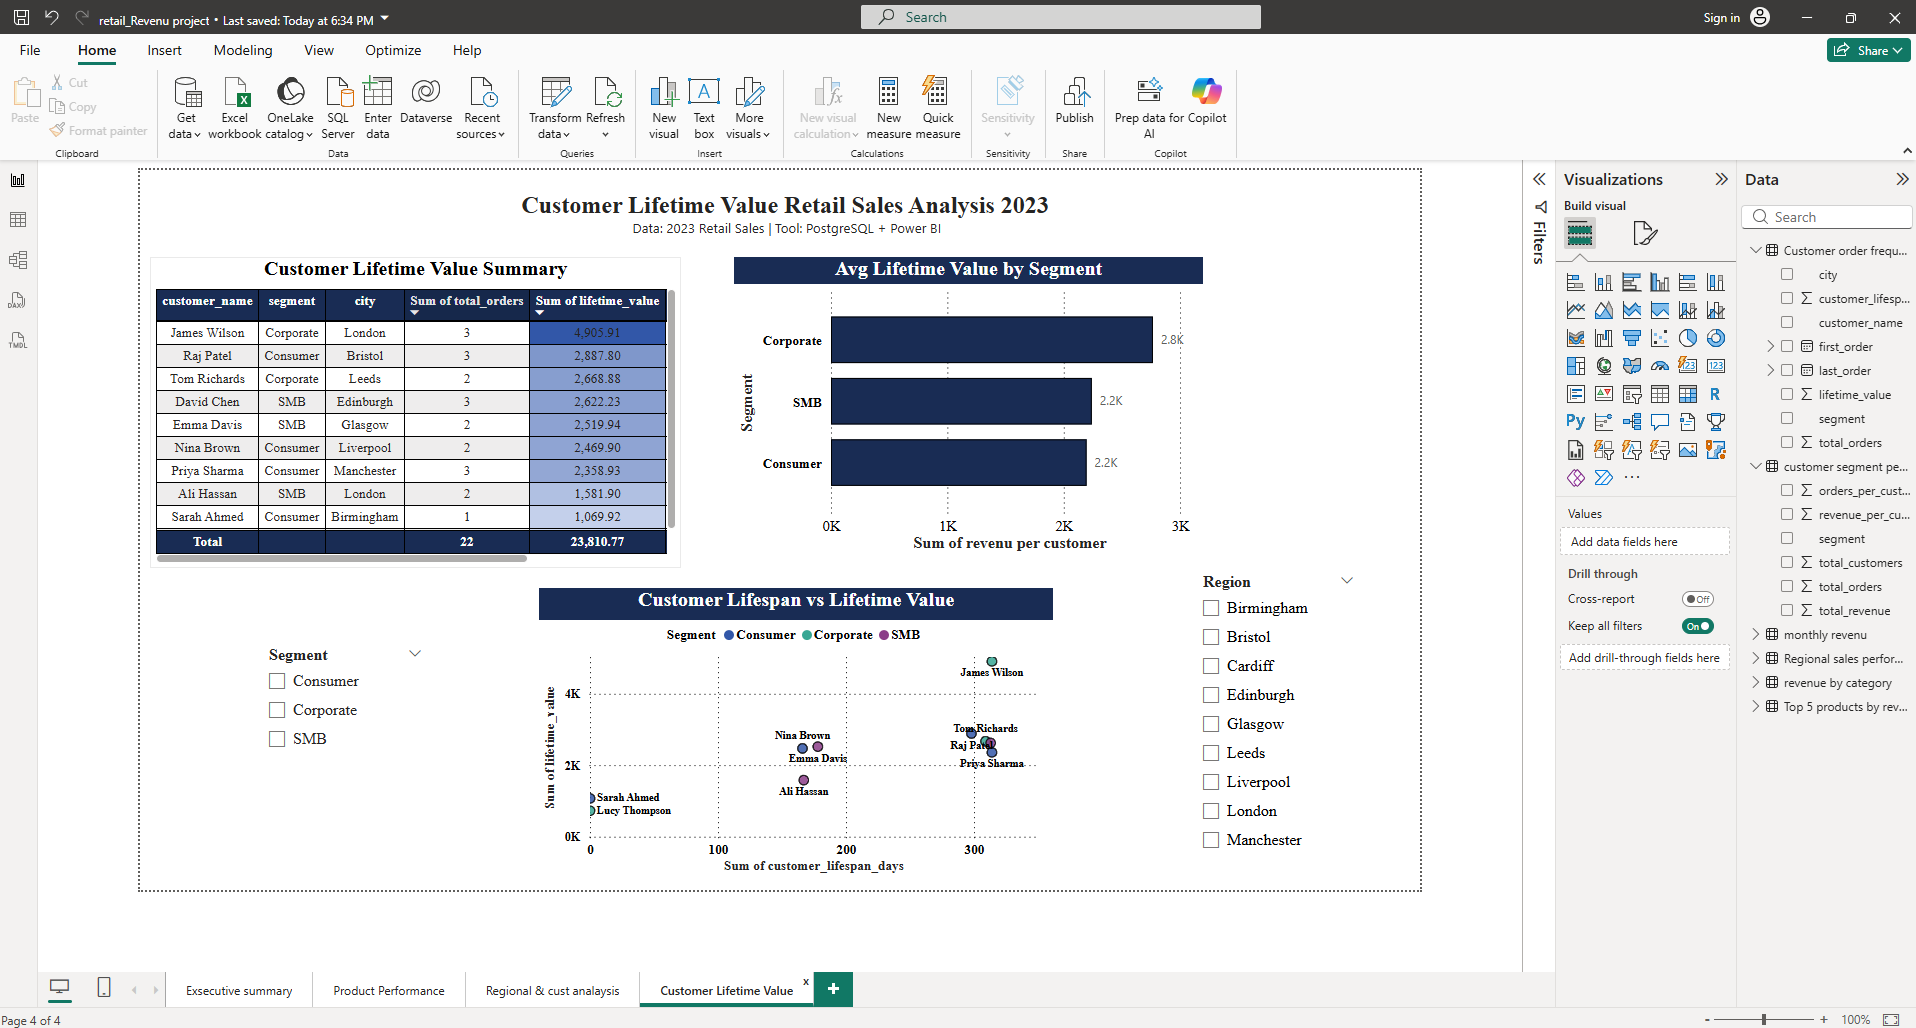

What the dashboard file says about the page in this screenshot:
{"tool":"powerbi","page":{"name":"Customer Lifetime Value","canvas":[1280,720],"ordinal":3},"visuals":[{"type":"textbox","box":[9.8,0,1270.5,86.8],"z":0},{"type":"tableEx","title":"Customer Lifetime Value Summary","fields":{"Values":["Customer order frequency.customer_name","Customer order frequency.segment","Customer order frequency.city","Sum(Customer order frequency.total_orders)","Sum(Customer order frequency.lifetime_value)","Sum(Customer order frequency.customer_lifespan_days)"]},"box":[9.9,86.9,531,310.7],"z":1000},{"type":"clusteredBarChart","title":"Avg Lifetime Value by Segment","fields":{"Category":["customer segment performance.segment"],"Y":["Sum(customer segment performance.revenue_per_customer)"]},"box":[593.7,86.9,469.3,299.1],"z":2000},{"type":"scatterChart","title":"Customer Lifespan vs Lifetime Value","fields":{"X":["Sum(Customer order frequency.customer_lifespan_days)"],"Y":["Sum(Customer order frequency.lifetime_value)"],"Category":["Customer order frequency.customer_name"],"Series":["Customer order frequency.segment"]},"box":[399.4,418.2,513.1,290.1],"z":3000},{"type":"slicer","fields":{"Values":["customer segment performance.segment"]},"box":[116.4,471,177.3,140.6],"z":4000},{"type":"slicer","fields":{"Values":["Customer order frequency.city"]},"box":[1049.6,397.6,176.4,290.1],"z":5000}]}

Visuals, with their boxes on the page's 1280x720 design canvas (x1, y1, x2, y2). These are canvas units, not pixel positions in the 1916x1028 screenshot, which may show the page scaled, cropped or inside an application window:
textbox: crop(10, 0, 1280, 87)
"Customer Lifetime Value Summary" tableEx: crop(10, 87, 541, 398)
"Avg Lifetime Value by Segment" clusteredBarChart: crop(594, 87, 1063, 386)
"Customer Lifespan vs Lifetime Value" scatterChart: crop(399, 418, 912, 708)
slicer - customer segment performance.segment: crop(116, 471, 294, 612)
slicer - Customer order frequency.city: crop(1050, 398, 1226, 688)
